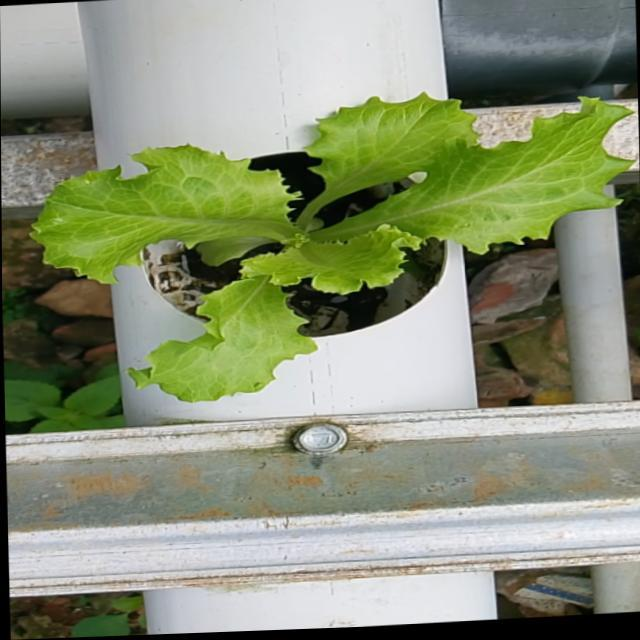Baby: (32, 92, 636, 401)
